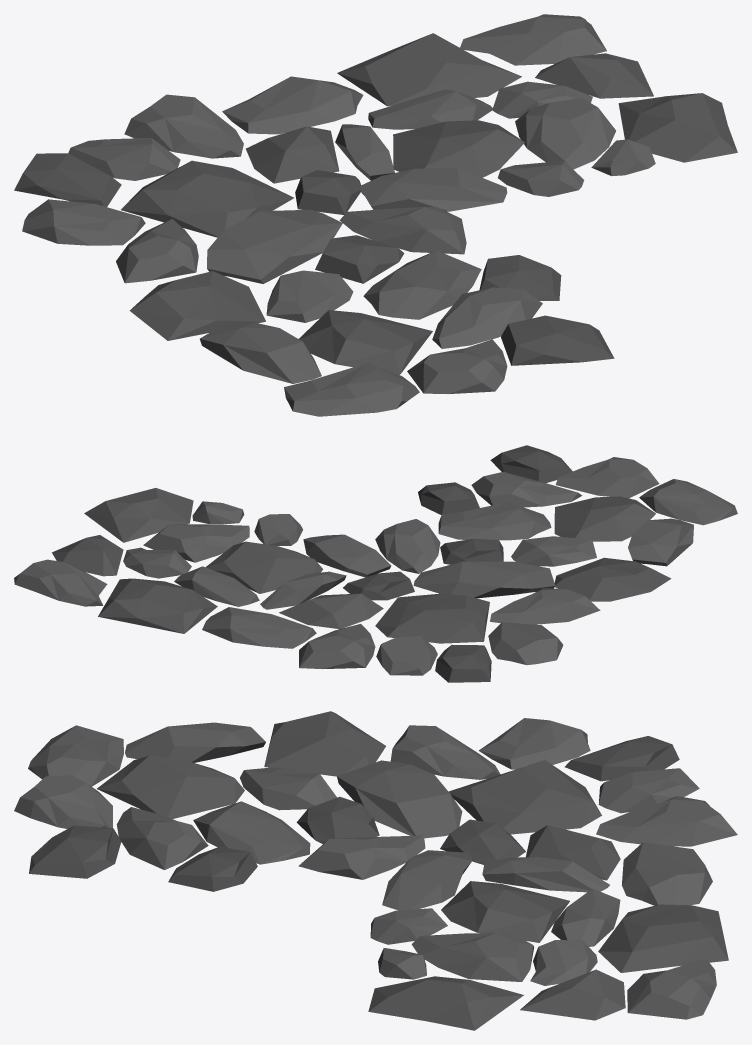
File: road_stone_right.fbx
3 renders of one model, top to bottom at view 1: azimuth 30°, elevation 25°; view 2: azimuth 150°, elevation 25°; view 3: azimuth 270°, elevation 25°, orthographic. The views are drawn at different scales.
Parts seen in each view (by area): view 1: road_stone_right; view 2: road_stone_right; view 3: road_stone_right.
Part boxes in pixels (box(x1,y1,x2,y2)): road_stone_right: box(14, 14, 737, 416); road_stone_right: box(14, 445, 737, 682); road_stone_right: box(14, 711, 737, 1030).
Size of the model in its own units: 298 by 10.43 by 294.
